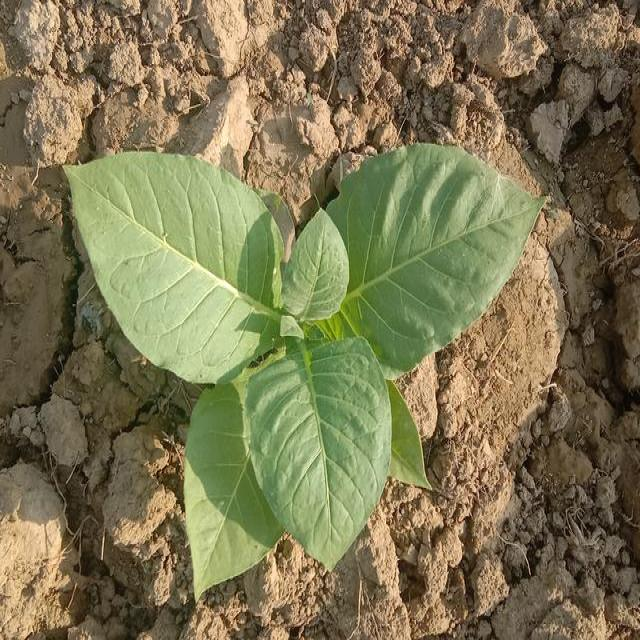crop: (72, 124, 538, 576)
